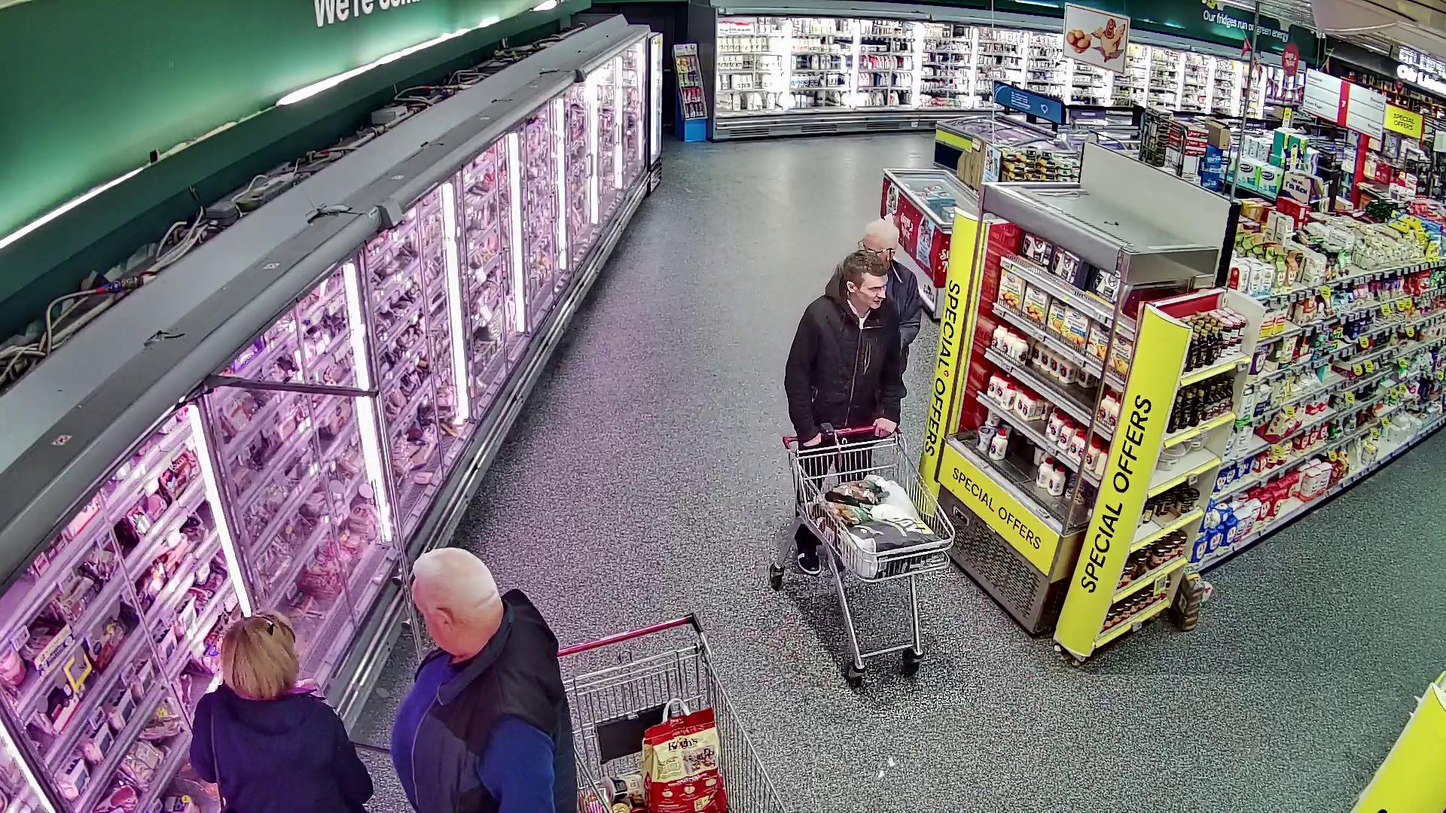filled-trolly: (532, 610, 787, 813), (770, 421, 956, 687)
person: (784, 248, 904, 575)
person-with-filled-basket-trolly: (770, 248, 957, 688)
